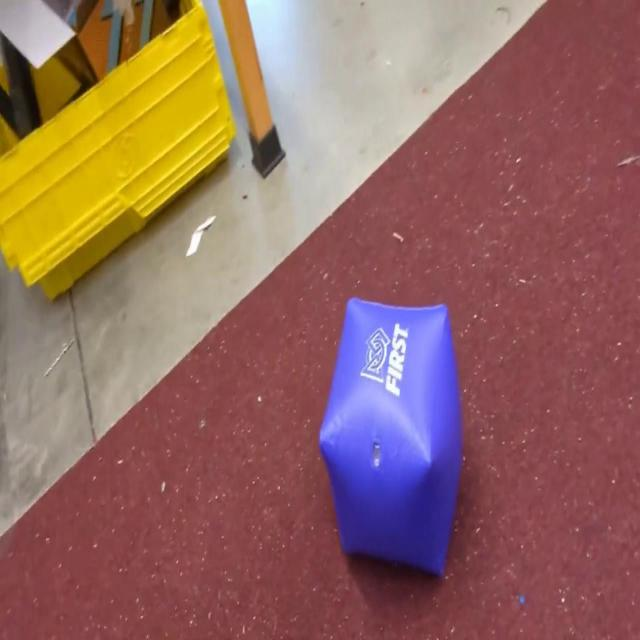frc_cube: (319, 297, 465, 573)
